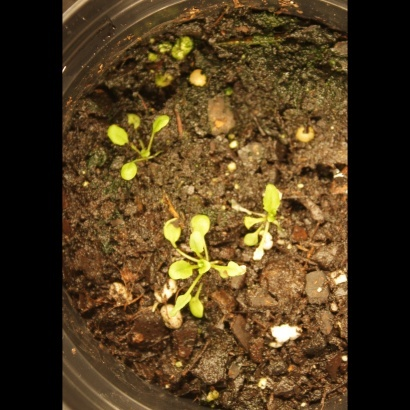leaf: (220, 256, 256, 285), (258, 181, 285, 218), (166, 256, 197, 286), (157, 215, 184, 247), (186, 211, 215, 237), (169, 289, 194, 318), (104, 124, 132, 149), (117, 159, 145, 184), (186, 230, 209, 258), (240, 228, 265, 251), (150, 112, 173, 135), (124, 108, 147, 131), (237, 210, 260, 233), (188, 297, 211, 320)
